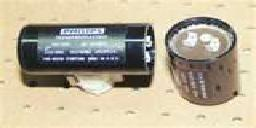Electrolytic-capacitor: (12, 21, 157, 98), (163, 17, 242, 109)
